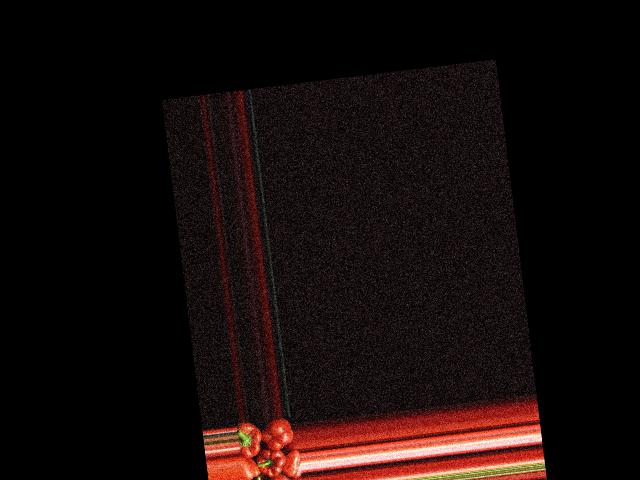bell_pepper: (282, 448, 301, 478)
